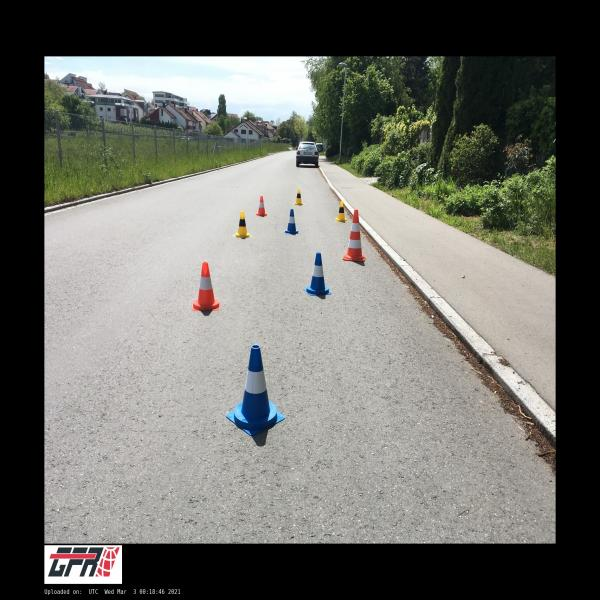blue_cone: (226, 345, 285, 435), (304, 252, 332, 296), (284, 209, 300, 234)
large_orange_cone: (343, 209, 365, 261)
orange_cone: (192, 262, 220, 311), (256, 196, 267, 216)
yellow_cone: (232, 212, 252, 238), (335, 201, 347, 221), (293, 188, 304, 205)
